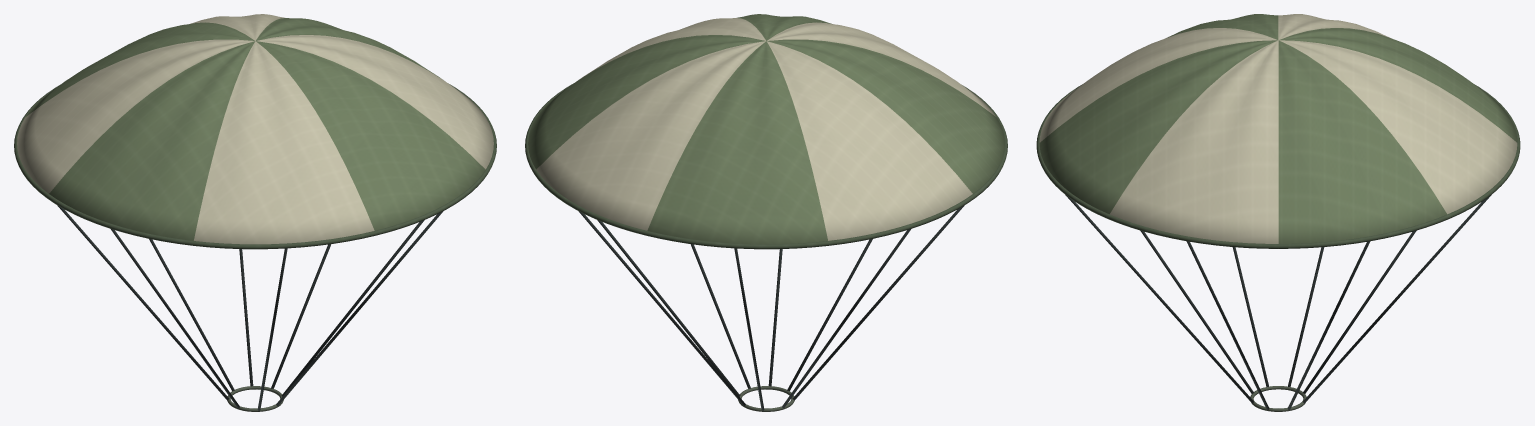
Rendered from VTOL_UniversalParachute.obj.
3 views of the same model, side by side, from view 1: azimuth 30°, elevation 25°; view 2: azimuth 150°, elevation 25°; view 3: azimuth 270°, elevation 25° (orthographic).
Parts seen in each view (by area): view 1: Canopy, Canopy_RimBinding, SuspensionLine_05, SuspensionLine_02, SuspensionLine_04, SuspensionLine_01, SuspensionLine_06, SuspensionLine_03, SuspensionLine_08, SuspensionLine_07, Attachment_WaistLoop; view 2: Canopy, Canopy_RimBinding, SuspensionLine_04, SuspensionLine_07, SuspensionLine_05, SuspensionLine_08, SuspensionLine_03, SuspensionLine_06, SuspensionLine_01, SuspensionLine_02, Attachment_WaistLoop; view 3: Canopy, Canopy_RimBinding, SuspensionLine_02, SuspensionLine_07, SuspensionLine_03, SuspensionLine_06, SuspensionLine_01, SuspensionLine_08, SuspensionLine_04, SuspensionLine_05, Attachment_WaistLoop.
Part boxes in pixels (bbox=[...]): Canopy: bbox=[17, 14, 493, 244]; Canopy_RimBinding: bbox=[14, 83, 496, 249]; SuspensionLine_05: bbox=[57, 205, 229, 400]; SuspensionLine_02: bbox=[276, 211, 443, 406]; SuspensionLine_04: bbox=[111, 229, 239, 408]; SuspensionLine_01: bbox=[281, 220, 424, 396]; SuspensionLine_06: bbox=[149, 239, 234, 390]; SuspensionLine_03: bbox=[257, 248, 287, 410]; SuspensionLine_08: bbox=[271, 244, 331, 388]; SuspensionLine_07: bbox=[239, 249, 253, 386]; Attachment_WaistLoop: bbox=[227, 386, 283, 411]; Canopy: bbox=[528, 14, 1004, 244]; Canopy_RimBinding: bbox=[525, 83, 1007, 249]; SuspensionLine_04: bbox=[792, 205, 964, 400]; SuspensionLine_07: bbox=[578, 211, 745, 406]; SuspensionLine_05: bbox=[782, 229, 910, 408]; SuspensionLine_08: bbox=[597, 220, 740, 396]; SuspensionLine_03: bbox=[787, 239, 872, 390]; SuspensionLine_06: bbox=[734, 248, 764, 410]; SuspensionLine_01: bbox=[690, 244, 750, 388]; SuspensionLine_02: bbox=[768, 249, 782, 386]; Attachment_WaistLoop: bbox=[738, 386, 794, 411]; Canopy: bbox=[1039, 14, 1517, 243]; Canopy_RimBinding: bbox=[1036, 85, 1520, 248]; SuspensionLine_02: bbox=[1065, 194, 1253, 403]; SuspensionLine_07: bbox=[1303, 194, 1491, 403]; SuspensionLine_03: bbox=[1140, 230, 1253, 393]; SuspensionLine_06: bbox=[1303, 230, 1416, 393]; SuspensionLine_01: bbox=[1186, 241, 1269, 409]; SuspensionLine_08: bbox=[1287, 241, 1370, 409]; SuspensionLine_04: bbox=[1232, 247, 1268, 386]; SuspensionLine_05: bbox=[1288, 247, 1324, 386]; Attachment_WaistLoop: bbox=[1250, 386, 1306, 411].
Size of the model in its own units: 3.62 by 2.97 by 3.62.
7 materials, 7 textured.
